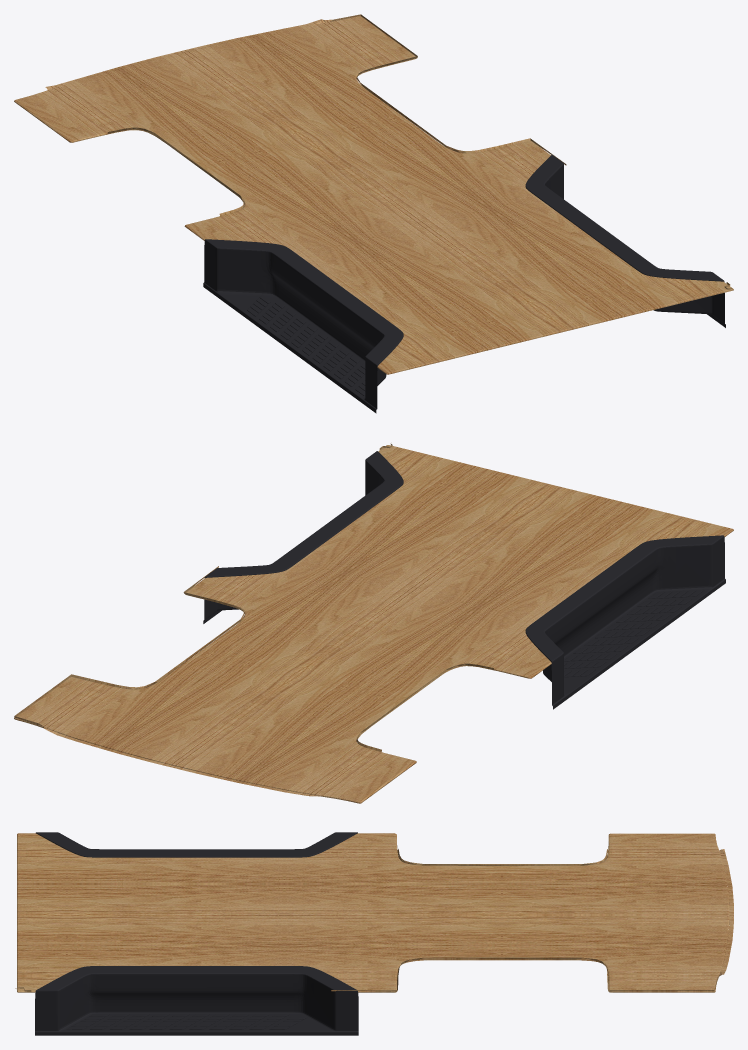
Rendered from floor-oak.glb.
The picture shows the model from 3 angles, top to bottom: view 1: azimuth 30°, elevation 25°; view 2: azimuth 150°, elevation 25°; view 3: azimuth 270°, elevation 25°; orthographic projection. The views are drawn at different scales.
Parts seen in each view (by area): view 1: floor_0, step_0, メッシュ ボディ786_0; view 2: floor_0, step_0, メッシュ ボディ786_0; view 3: floor_0, step_0, メッシュ ボディ786_0.
Boxes of the visible parts, x1,y1,x2,y2 form: floor_0: (14, 16, 733, 374); step_0: (203, 155, 725, 413); メッシュ ボディ786_0: (45, 14, 731, 289); floor_0: (14, 445, 733, 803); step_0: (203, 451, 725, 709); メッシュ ボディ786_0: (14, 443, 494, 796); floor_0: (17, 833, 729, 992); step_0: (35, 832, 358, 1035); メッシュ ボディ786_0: (15, 849, 733, 992).
Size of the model in its own units: 1.56 by 0.2059 by 2.98.
3 materials, 2 textured.
